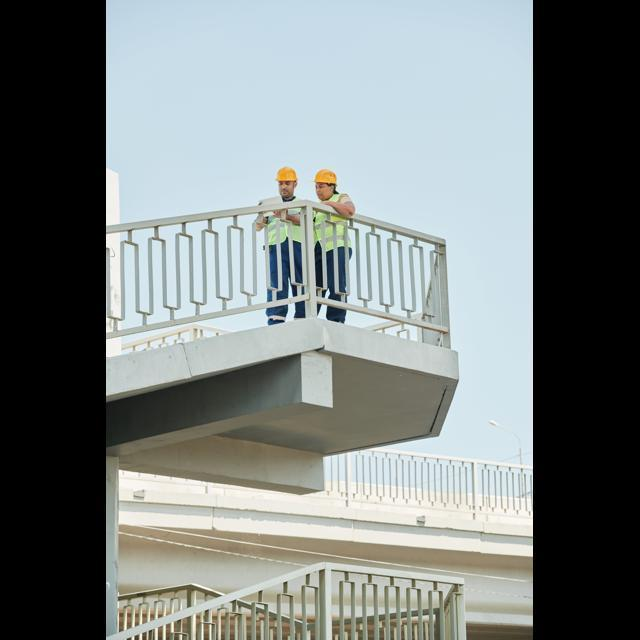helmet: (273, 166, 302, 184), (313, 168, 342, 185)
safety_vest: (308, 192, 357, 250), (260, 192, 309, 246)
